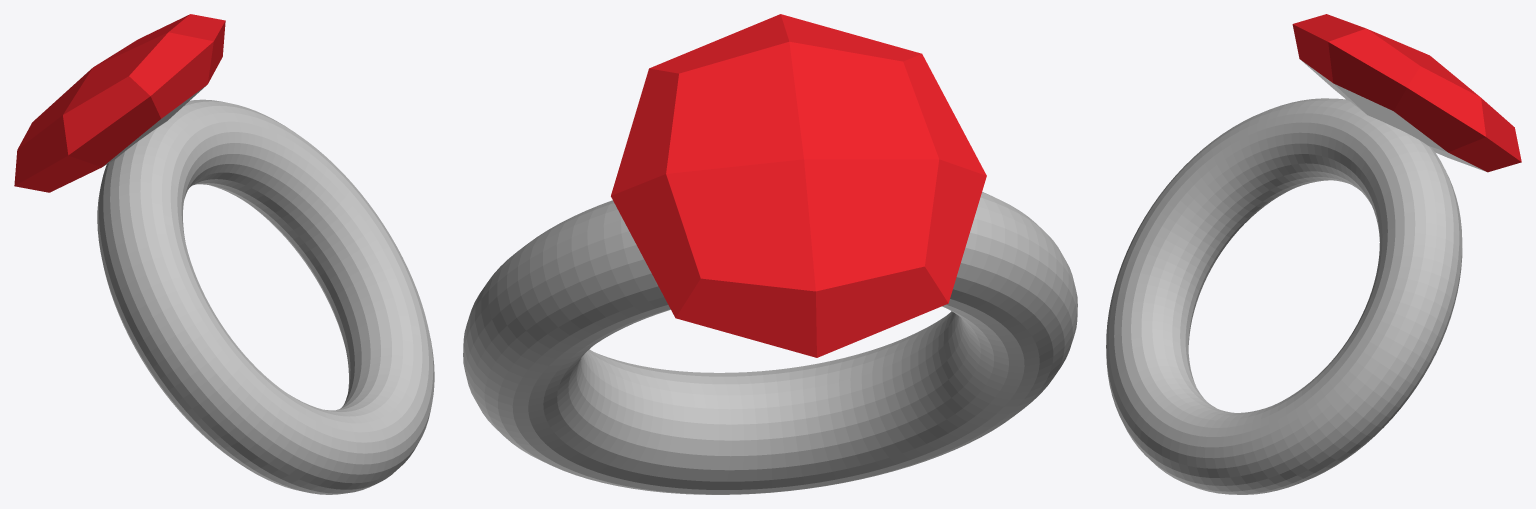
The model's file is fireRing.fbx.
The picture shows the model from 3 angles, left to right: view 1: azimuth 30°, elevation 25°; view 2: azimuth 150°, elevation 25°; view 3: azimuth 270°, elevation 25°; orthographic projection. The views are drawn at different scales.
Parts seen in each view (by area): view 1: トーラス; view 2: トーラス; view 3: トーラス.
Boxes of the visible parts, x1,y1,x2,y2 form: トーラス: [14, 14, 434, 494]; トーラス: [463, 14, 1077, 494]; トーラス: [1106, 14, 1521, 494].
Bounding box in the file's own units: 5.57 × 6.01 × 5.7.
Materials: 1 (1 with a texture image).
